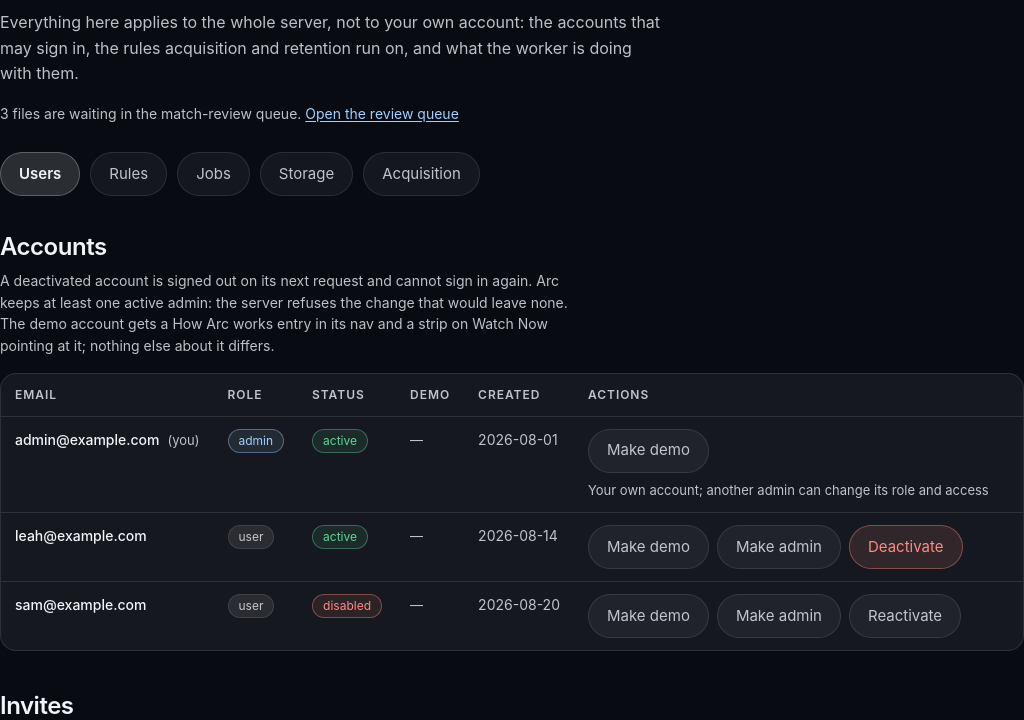
Test case: Admin — the page and its tabs › writes the chosen tab into ?tab= and renders it
The width and height of the screenshot is (1024, 720).
Click the button "Jobs" at {"x": 214, "y": 174}, box [177,152,250,196]
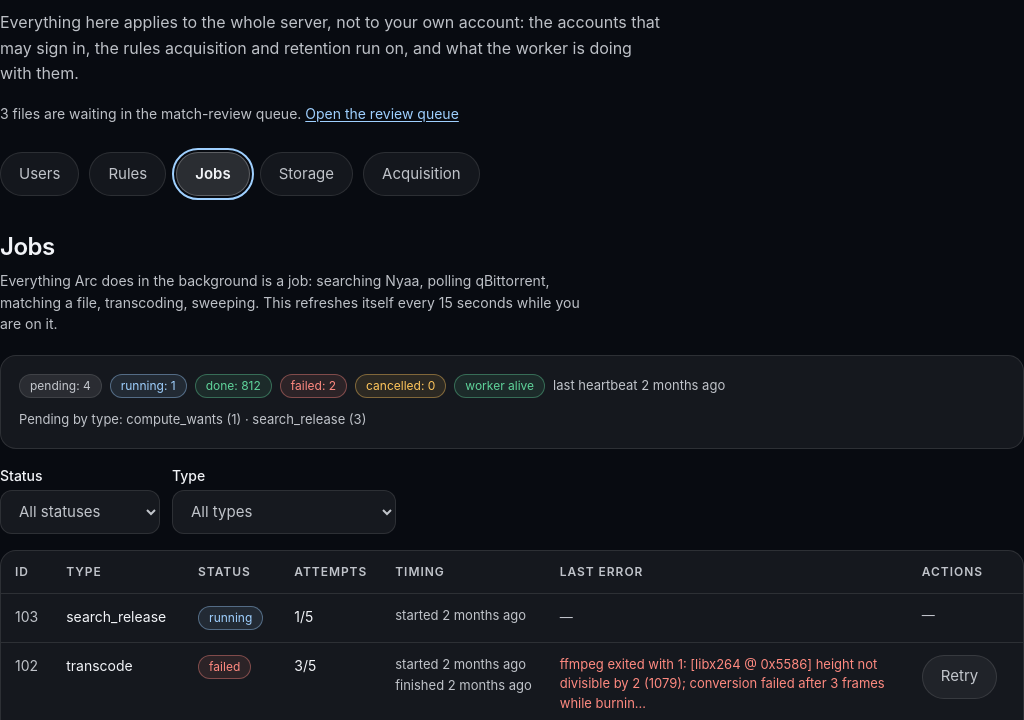
Now the button "Jobs" is pressed, box [176,152,250,196]
Click the button "Storage" at {"x": 306, "y": 174}, box [260,152,353,196]
(page scrolled)
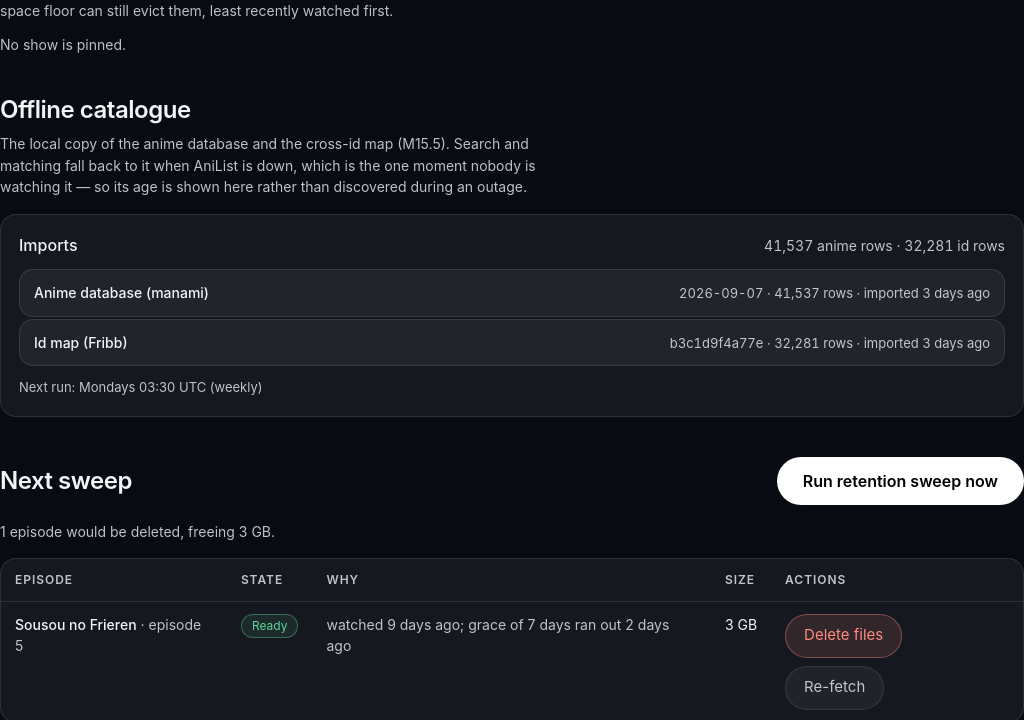
Now the heading "Next sweep" is shown, box [0,466,132,496]
